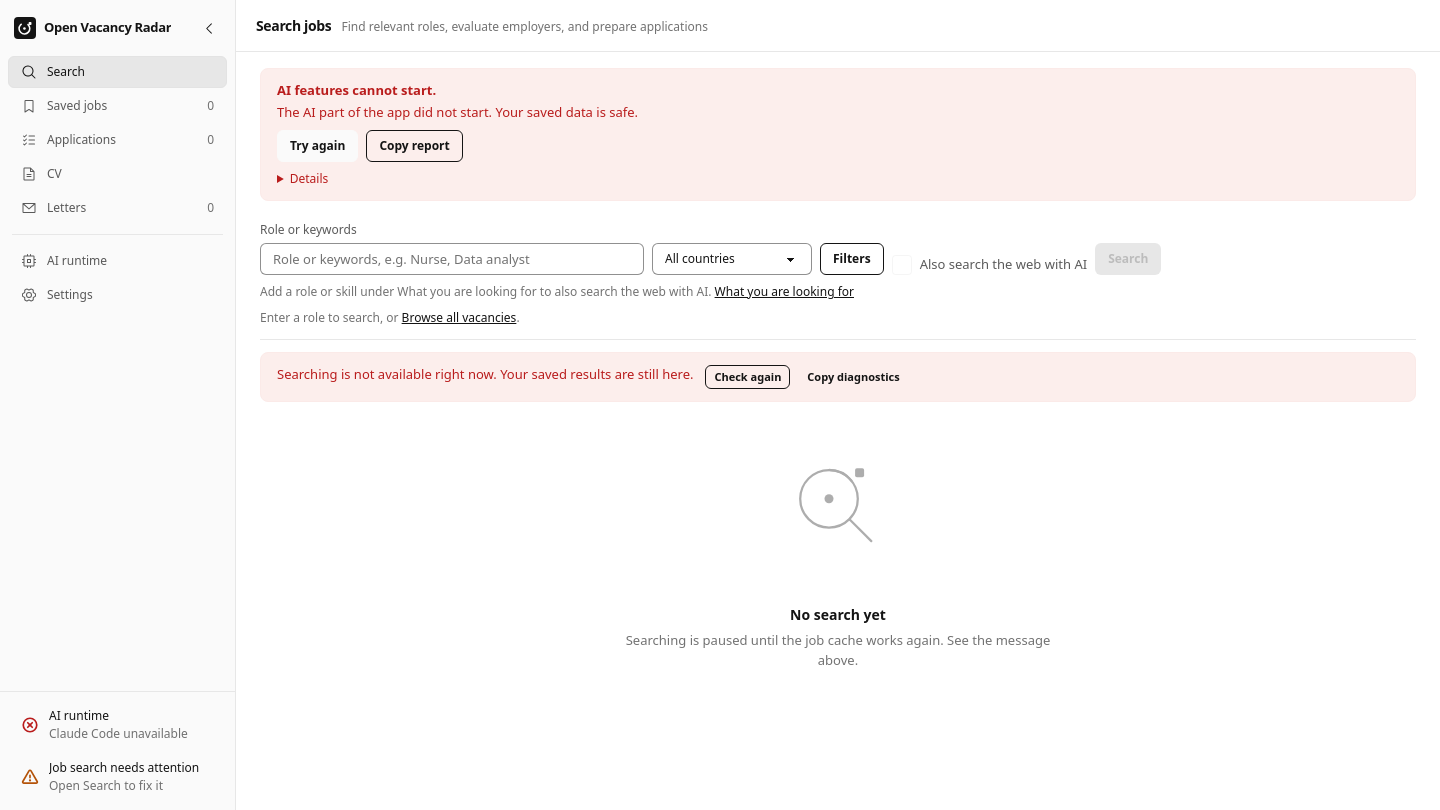
App › AI helper unavailable (issue #478) › Try again restarts the helper, shows the pending state, and clears the notice on success
The width and height of the screenshot is (1440, 810).
Click the button "Try again".
click(318, 146)  # box [277,130,358,162]
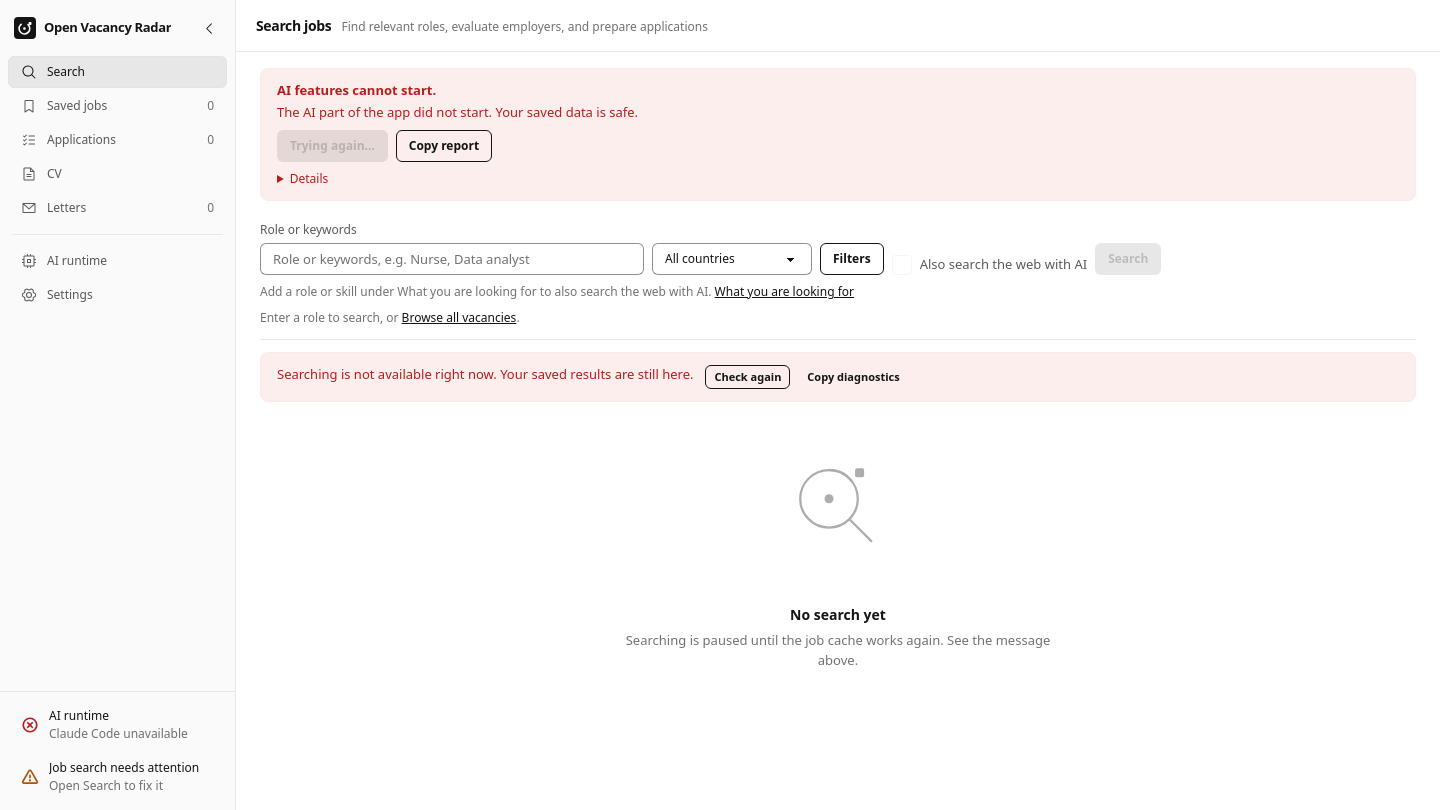
Expected: the button "Trying again…" is disabled
A second click while pending cannot reach the bridge: the button is disabled.
Click the button "Trying again…".
click(332, 146)  # box [277,130,388,162]
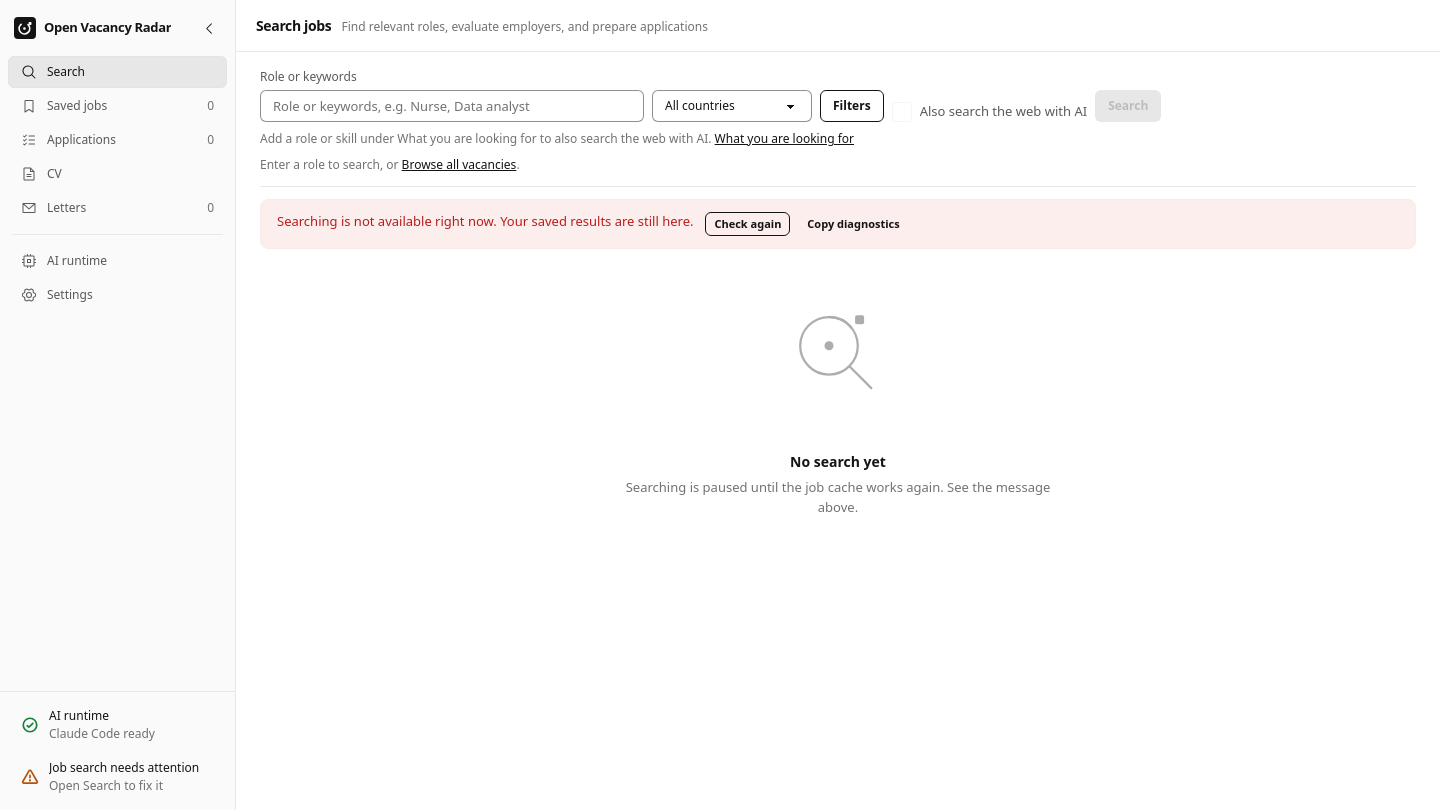
Expected: the text "AI features cannot start." is gone
